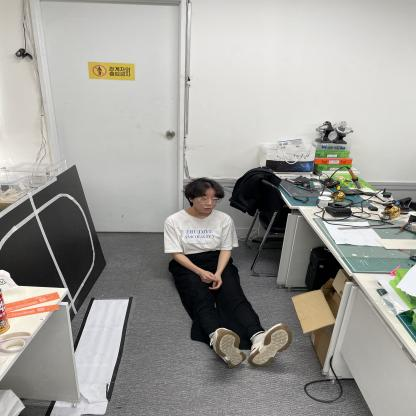fall: (158, 173, 292, 372)
